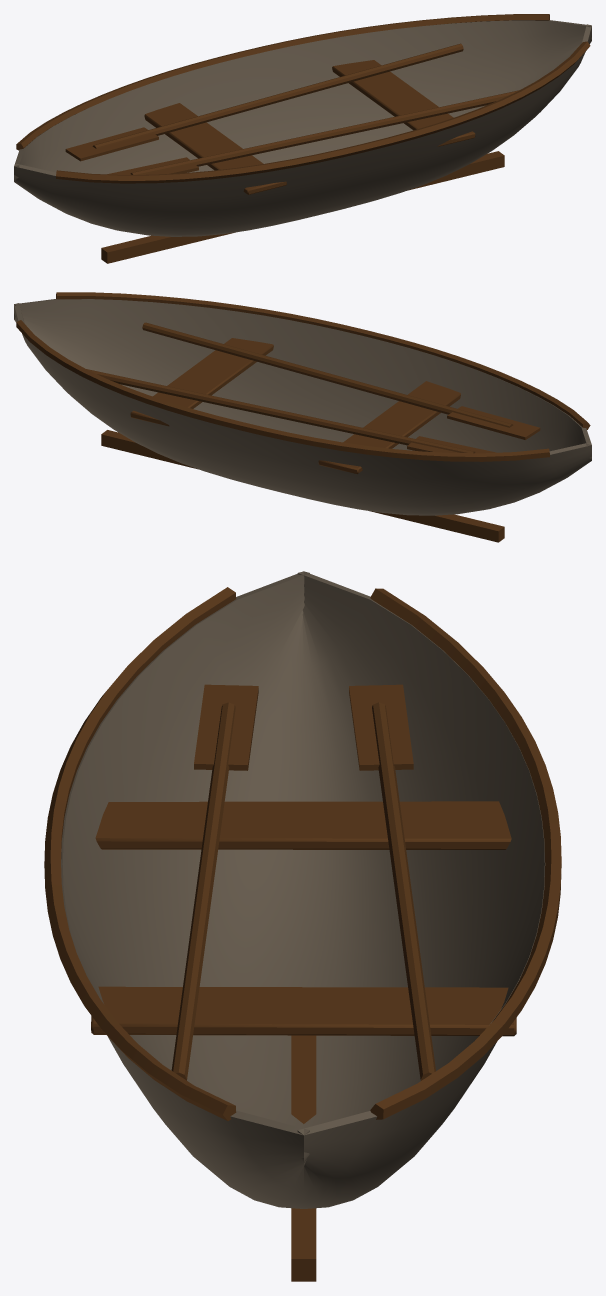
The model's file is ruderboot.glb.
3 renders of one model, top to bottom at view 1: azimuth 30°, elevation 25°; view 2: azimuth 150°, elevation 25°; view 3: azimuth 270°, elevation 25°, orthographic. The views are drawn at different scales.
Parts seen in each view (by area): view 1: ruderboot; view 2: ruderboot; view 3: ruderboot.
Part boxes in pixels (x1,y1,x2,y2): ruderboot: (14, 14, 591, 263); ruderboot: (14, 292, 591, 542); ruderboot: (44, 571, 561, 1281).
Bounding box in the file's own units: 3.2 × 0.6392 × 1.24.
